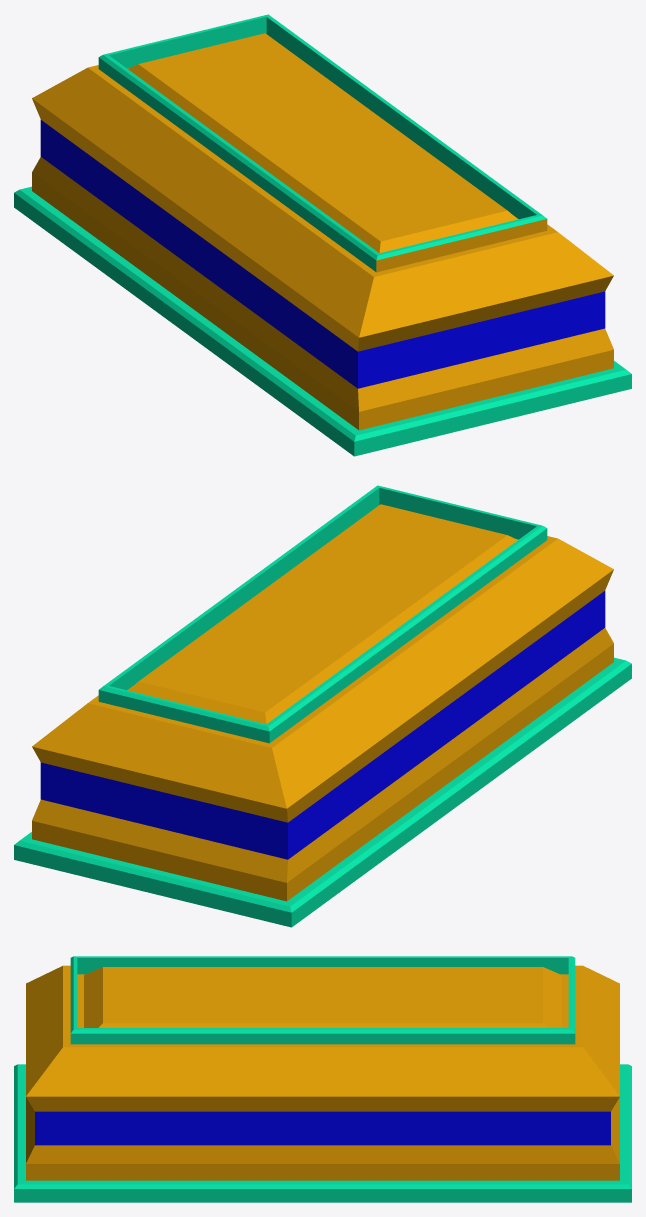
The model's file is TOMB.fbx.
3 views of the same model, one above another, from view 1: azimuth 30°, elevation 25°; view 2: azimuth 150°, elevation 25°; view 3: azimuth 270°, elevation 25° (orthographic). The views are drawn at different scales.
Parts seen in each view (by area): view 1: TOMB; view 2: TOMB; view 3: TOMB.
Boxes of the visible parts, left/top/right/bottom form: TOMB: left=14, top=14, right=631, bottom=456; TOMB: left=14, top=485, right=631, bottom=927; TOMB: left=14, top=956, right=631, bottom=1202.
Bounding box in the file's own units: 66.34 × 37.23 × 141.
